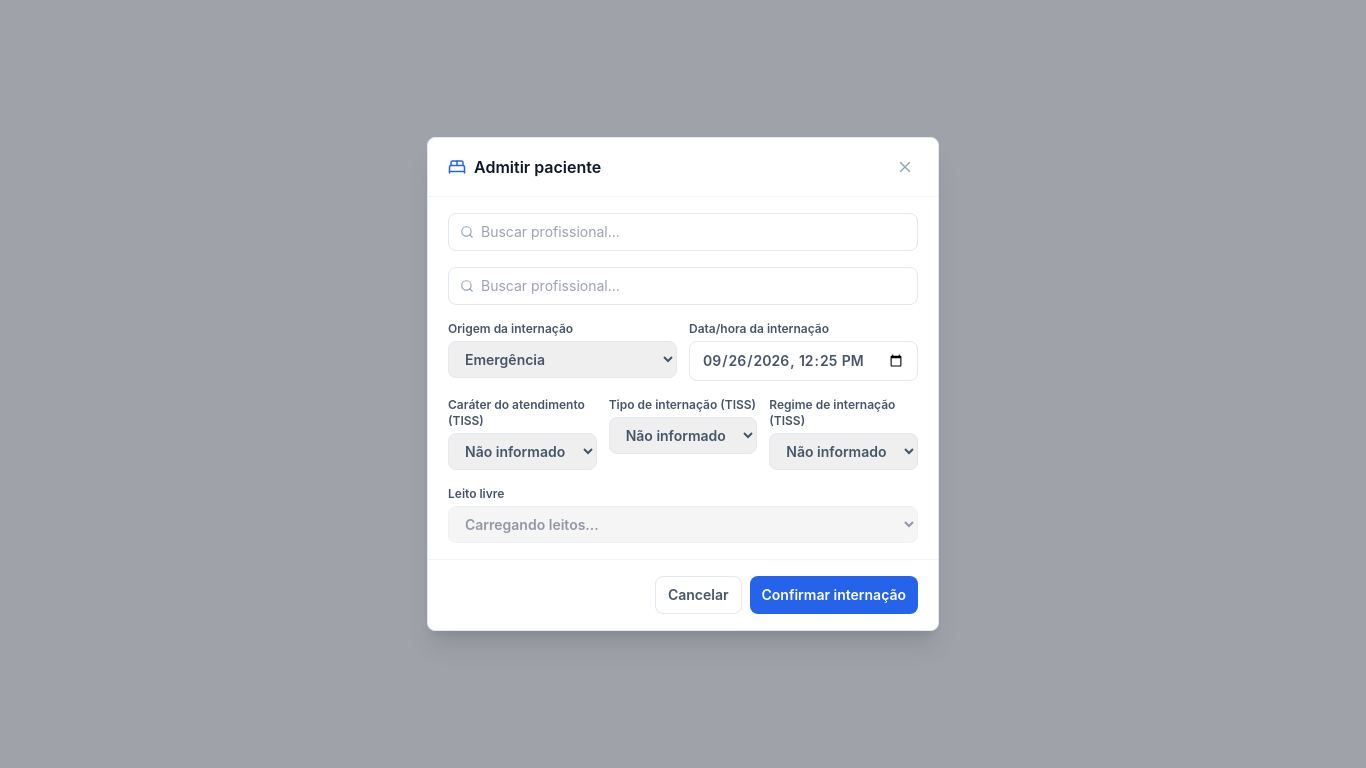
Test: AdmitPatientModal › validates that professionals and a bed are selected before posting
Click the button "Confirmar internação": x=834, y=595 top-left (750, 576), bottom-right (918, 614)
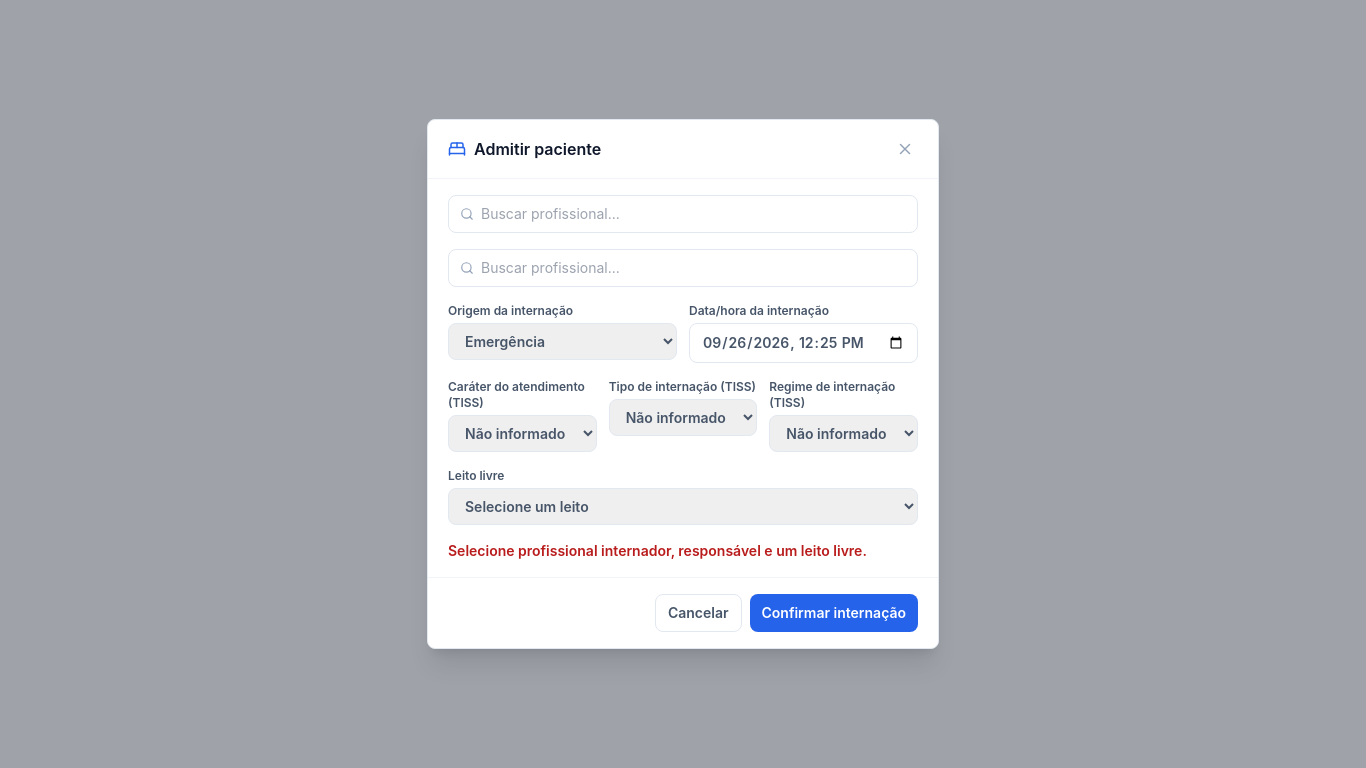
Check: the text "Selecione profissional internador, responsável e um leito livre" is shown, box top-left (448, 542), bottom-right (867, 559)
